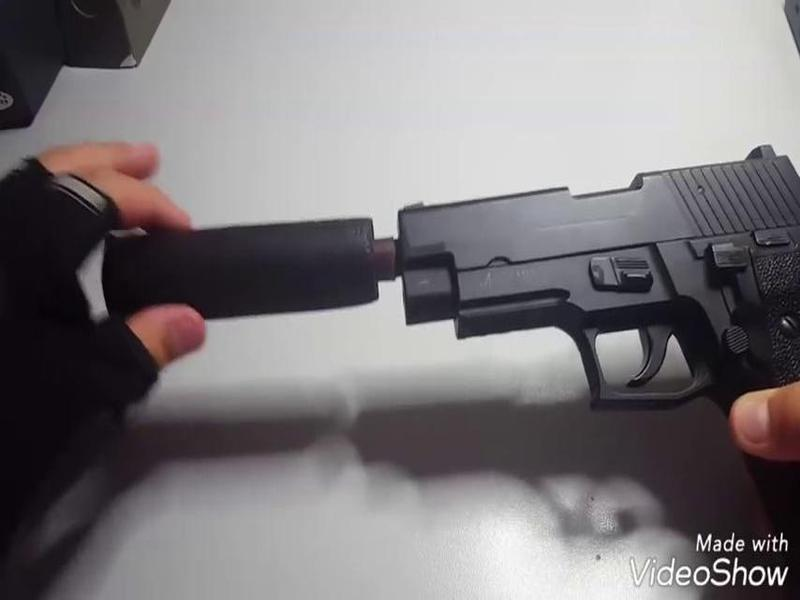Pistola: (392, 135, 800, 525)
